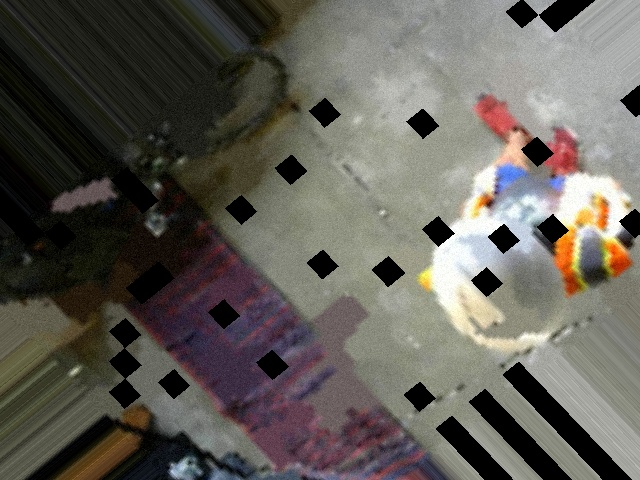three: (475, 304, 530, 354)
